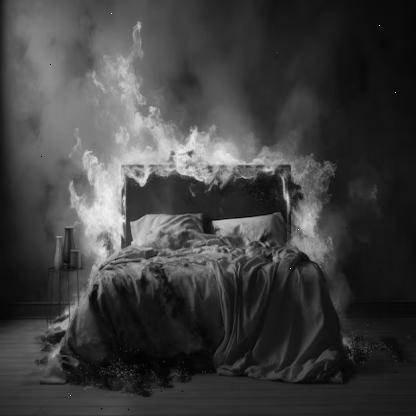fire: (51, 28, 357, 350)
smoke: (3, 2, 416, 321)
